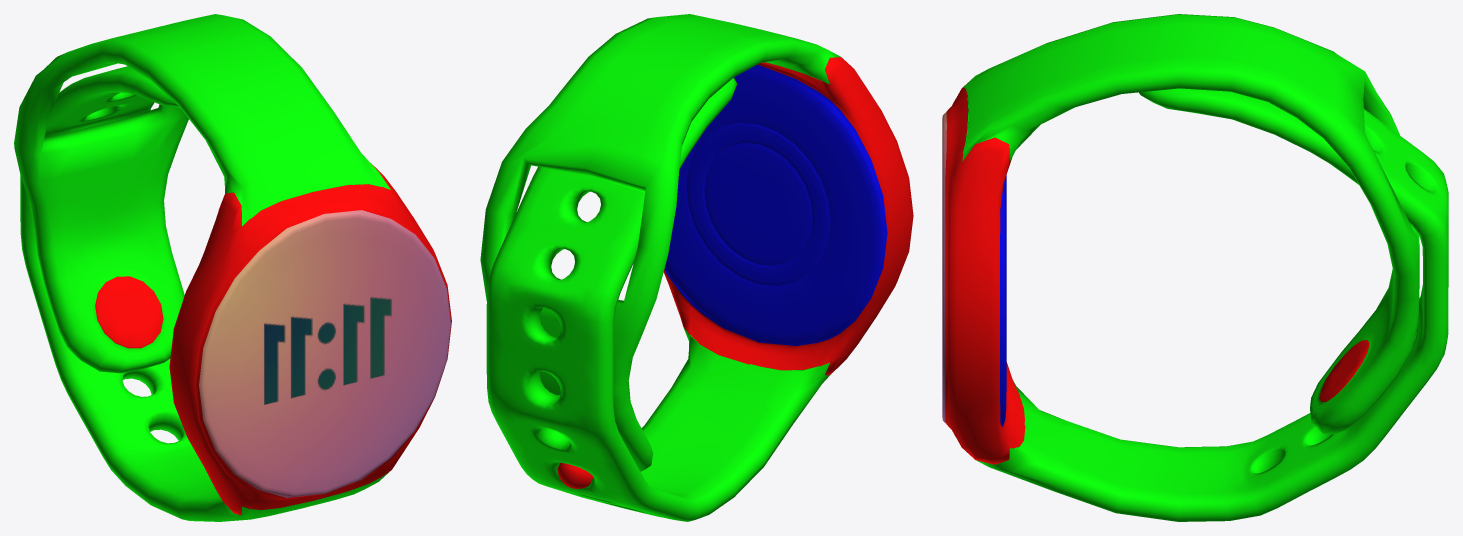
The model's file is watchcircle_main.glb.
3 renders of one model, left to right at view 1: azimuth 30°, elevation 25°; view 2: azimuth 150°, elevation 25°; view 3: azimuth 270°, elevation 25°, orthographic. The views are drawn at different scales.
Visible parts, largest first — view 1: Galaxy Watch; view 2: Galaxy Watch; view 3: Galaxy Watch.
Boxes of the visible parts, x1,y1,x2,y2 form: Galaxy Watch: (14,14,451,521); Galaxy Watch: (480,14,913,521); Galaxy Watch: (942,14,1448,521).
Bounding box in the file's own units: 1.01 × 1.63 × 1.64.
1 material, 1 textured.
